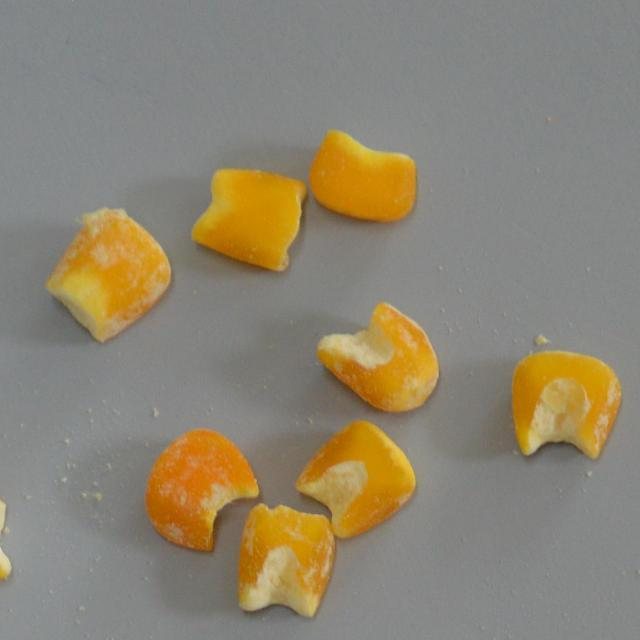dañado: (143, 428, 260, 552)
no_canjicado: (190, 165, 306, 273), (310, 127, 418, 222), (0, 488, 12, 590)
pelicula: (44, 207, 172, 342), (293, 418, 417, 539), (318, 302, 444, 413), (510, 349, 622, 460), (234, 502, 334, 620)
